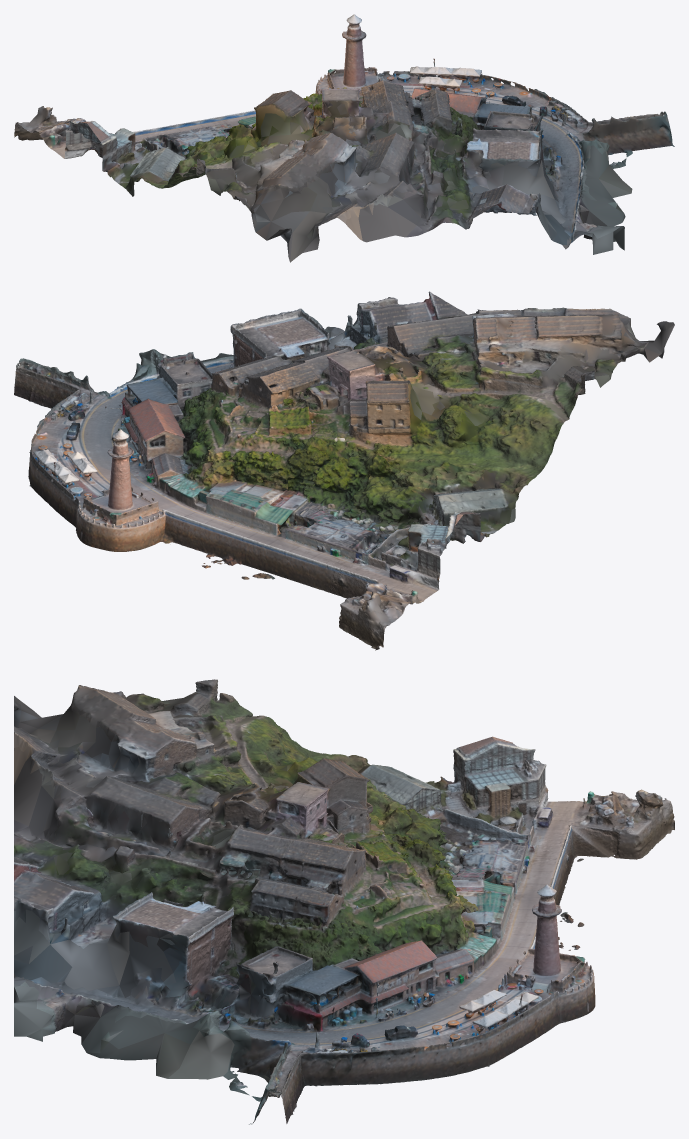
File: harbor_and_beacon_ver2.0_optimized.glb
The picture shows the model from 3 angles, top to bottom: view 1: azimuth 30°, elevation 25°; view 2: azimuth 150°, elevation 25°; view 3: azimuth 270°, elevation 25°; orthographic projection. The views are drawn at different scales.
Visible parts, largest first — view 1: Object_2; view 2: Object_2; view 3: Object_2.
Part boxes in pixels (x1,y1,x2,y2): Object_2: [14, 14, 674, 262]; Object_2: [14, 291, 674, 650]; Object_2: [14, 679, 674, 1124].
Bounding box in the file's own units: 120 × 29.89 × 113.
1 material, 1 textured.
